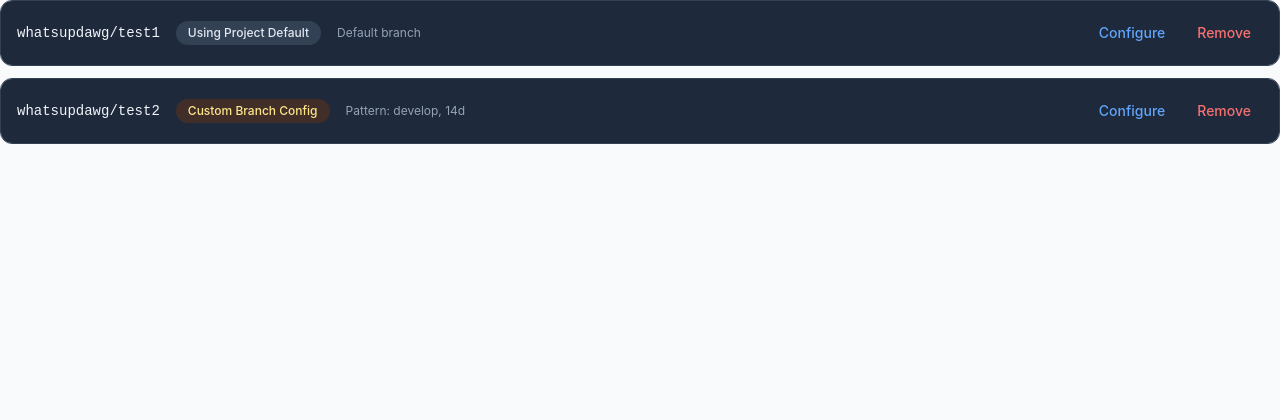
Test case: RepoBranchOverridesPanel › switching to override mode enables fields and save button activates
Click the button "Configure" in the row of "Default branch" at {"x": 1132, "y": 33}, box [1087,17,1177,49]
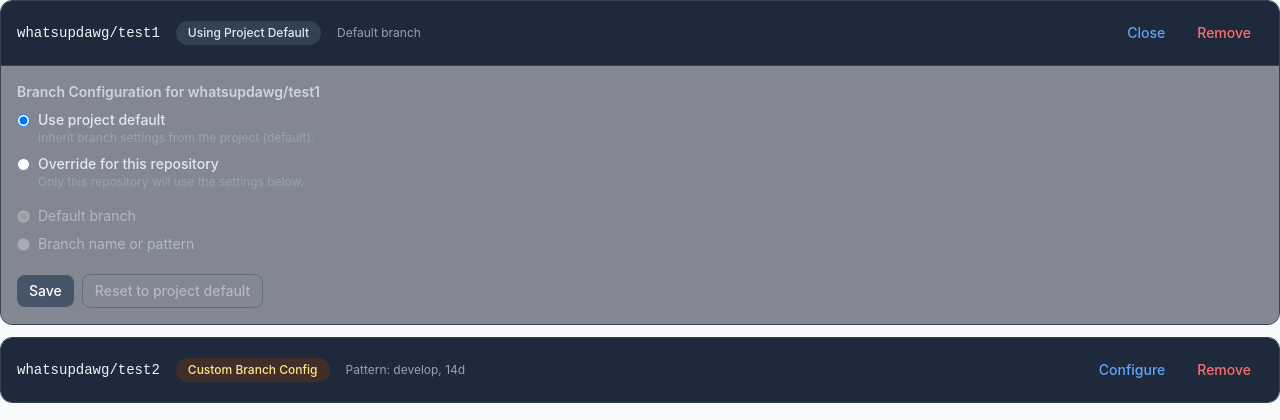
Click the radio button with test id "mode-override" at {"x": 24, "y": 164}, box [17,158,30,171]
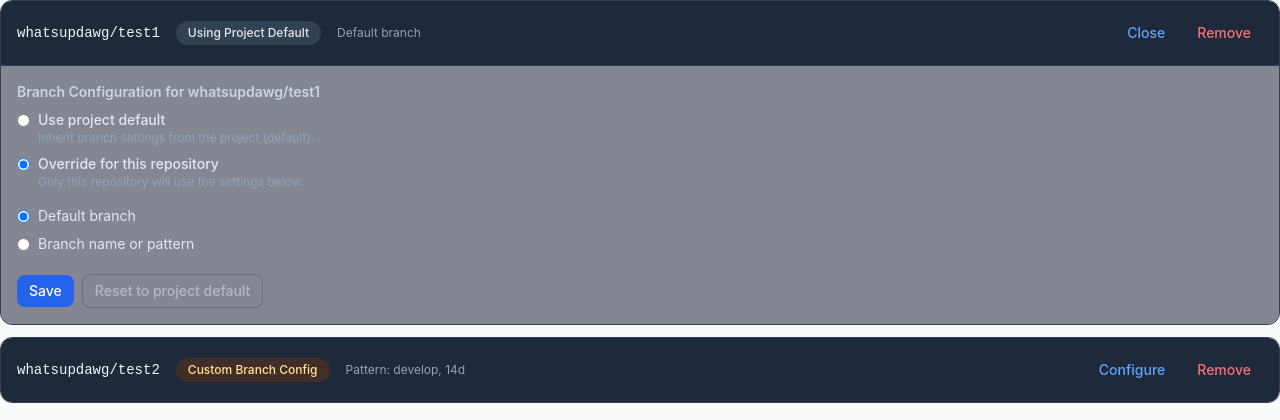
Check: the element with test id "option-default" is enabled, box [17,207,194,252]
Check: the button with test id "save-btn" is enabled, box [17,275,74,307]
